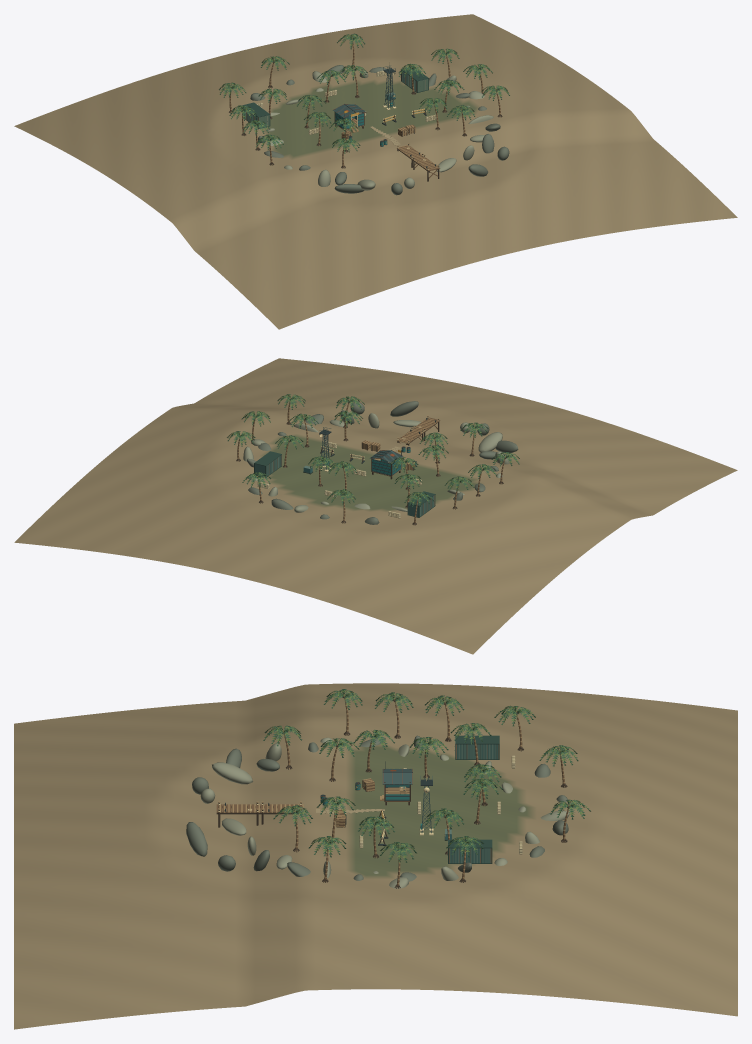
File: L_PuertoChico_Combat.glb
3 renders of one model, top to bottom at view 1: azimuth 30°, elevation 25°; view 2: azimuth 150°, elevation 25°; view 3: azimuth 270°, elevation 25°, orthographic. The views are drawn at different scales.
Visible parts, largest first — view 1: L_PuertoChico_Combat; view 2: L_PuertoChico_Combat; view 3: L_PuertoChico_Combat.
Boxes of the visible parts, <box> form: L_PuertoChico_Combat: <box>14,14,737,329</box>; L_PuertoChico_Combat: <box>14,358,737,654</box>; L_PuertoChico_Combat: <box>14,683,737,1029</box>.
Size of the model in its own units: 100 by 19.42 by 100.
